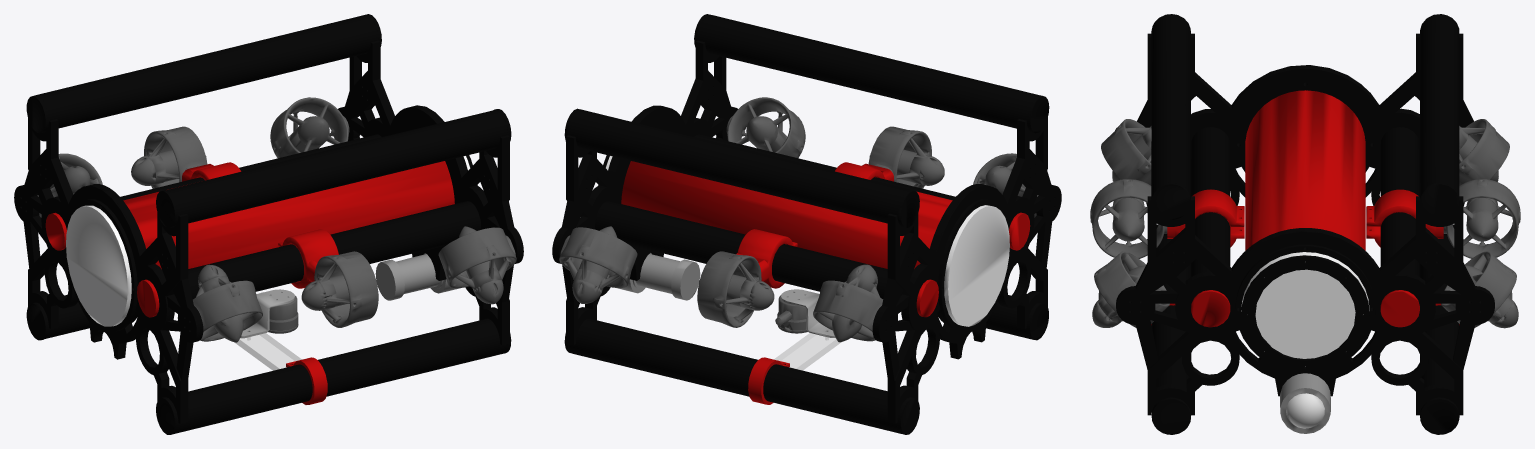
The model's file is udin.glb.
The picture shows the model from 3 angles, left to right: view 1: azimuth 30°, elevation 25°; view 2: azimuth 150°, elevation 25°; view 3: azimuth 270°, elevation 25°; orthographic projection. The views are drawn at different scales.
Visible parts, largest first — view 1: udin; view 2: udin; view 3: udin.
Boxes of the visible parts, x1=… form: udin: x1=14, y1=14, x2=523, y2=434; udin: x1=552, y1=14, x2=1061, y2=434; udin: x1=1090, y1=14, x2=1520, y2=434.
Bounding box in the file's own units: 571 × 355 × 545.
